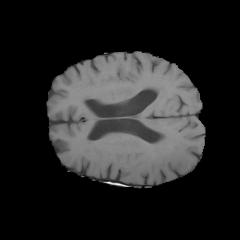glioma: (153, 133, 189, 171)
